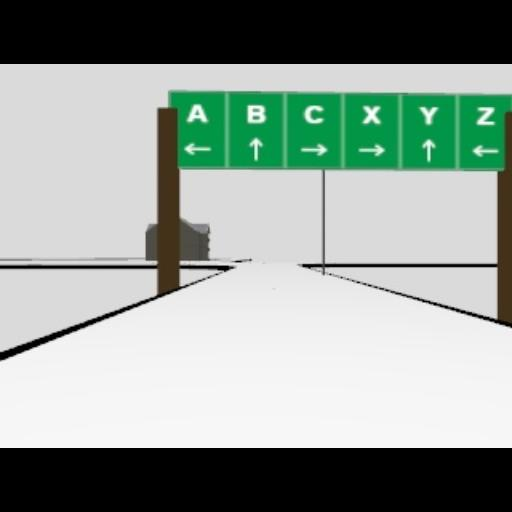A: (186, 102, 208, 124)
B: (244, 104, 266, 124)
C: (302, 104, 324, 124)
Left: (182, 142, 212, 156), (470, 144, 500, 156)
Right: (300, 143, 328, 157), (356, 144, 386, 156)
Straight: (248, 136, 262, 160), (421, 138, 435, 162)
X: (362, 104, 380, 124)
Y: (418, 106, 440, 126)
Z: (476, 106, 496, 124)
